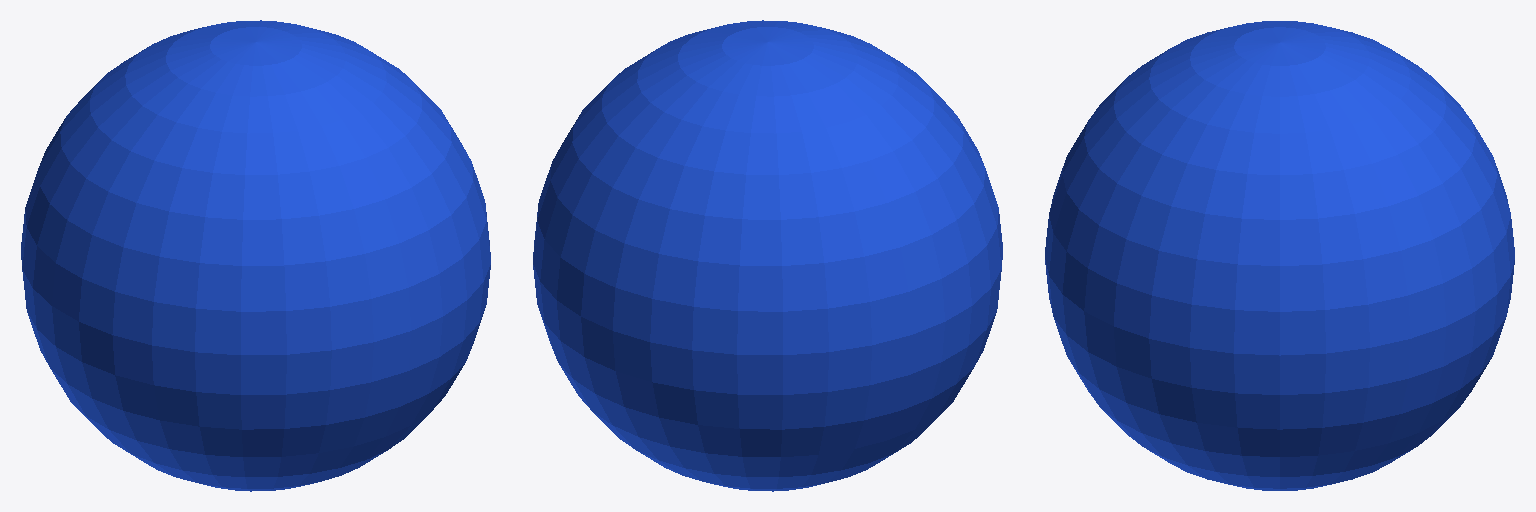
URDF robot description (double_integrator):
<?xml version="1.0" encoding="utf-8"?>
<robot name="double_integrator">

  <!-- Fixed world frame -->
  <link name="world"/>

  <!-- Ball: 1 kg sphere, radius 0.05 m -->
  <link name="ball">
    <inertial>
      <origin xyz="0 0 0" rpy="0 0 0"/>
      <mass value="1.0"/>
      <!-- Solid sphere: I = 2/5 * m * r^2 = 2/5 * 1.0 * 0.05^2 = 0.001 -->
      <inertia ixx="0.001" ixy="0.0" ixz="0.0"
               iyy="0.001" iyz="0.0"
               izz="0.001"/>
    </inertial>
    <visual>
      <origin xyz="0 0 0" rpy="0 0 0"/>
      <geometry>
        <sphere radius="0.05"/>
      </geometry>
      <material name="blue">
        <color rgba="0.2 0.4 0.9 1.0"/>
      </material>
    </visual>
    <collision>
      <origin xyz="0 0 0" rpy="0 0 0"/>
      <geometry>
        <sphere radius="0.05"/>
      </geometry>
    </collision>
  </link>

  <!-- 1D prismatic joint along X axis -->
  <joint name="slide_joint" type="prismatic">
    <parent link="world"/>
    <child link="ball"/>
    <origin xyz="0 0 0" rpy="0 0 0"/>
    <axis xyz="1 0 0"/>
    <limit lower="-100.0" upper="100.0" effort="100.0" velocity="100.0"/>
    <dynamics damping="0.0" friction="0.0"/>
  </joint>

</robot>

--- Render facts (derived) ---
The picture shows the robot from 3 angles, left to right: view 1: azimuth 30°, elevation 25°; view 2: azimuth 150°, elevation 25°; view 3: azimuth 270°, elevation 25°; orthographic projection.
Model double_integrator with 2 links and 1 joints (1 prismatic), rooted at world, posed every joint at zero.
Links seen in each view (by area): view 1: ball; view 2: ball; view 3: ball.
Link boxes in pixels (left/top/right/bottom): ball: left=21, top=20, right=490, bottom=491; ball: left=533, top=20, right=1002, bottom=491; ball: left=1045, top=21, right=1514, bottom=490.
Size in the robot's own frame: 0.1 by 0.1 by 0.1 metres.
Geometry: primitives only (box / cylinder / sphere), no mesh files.
